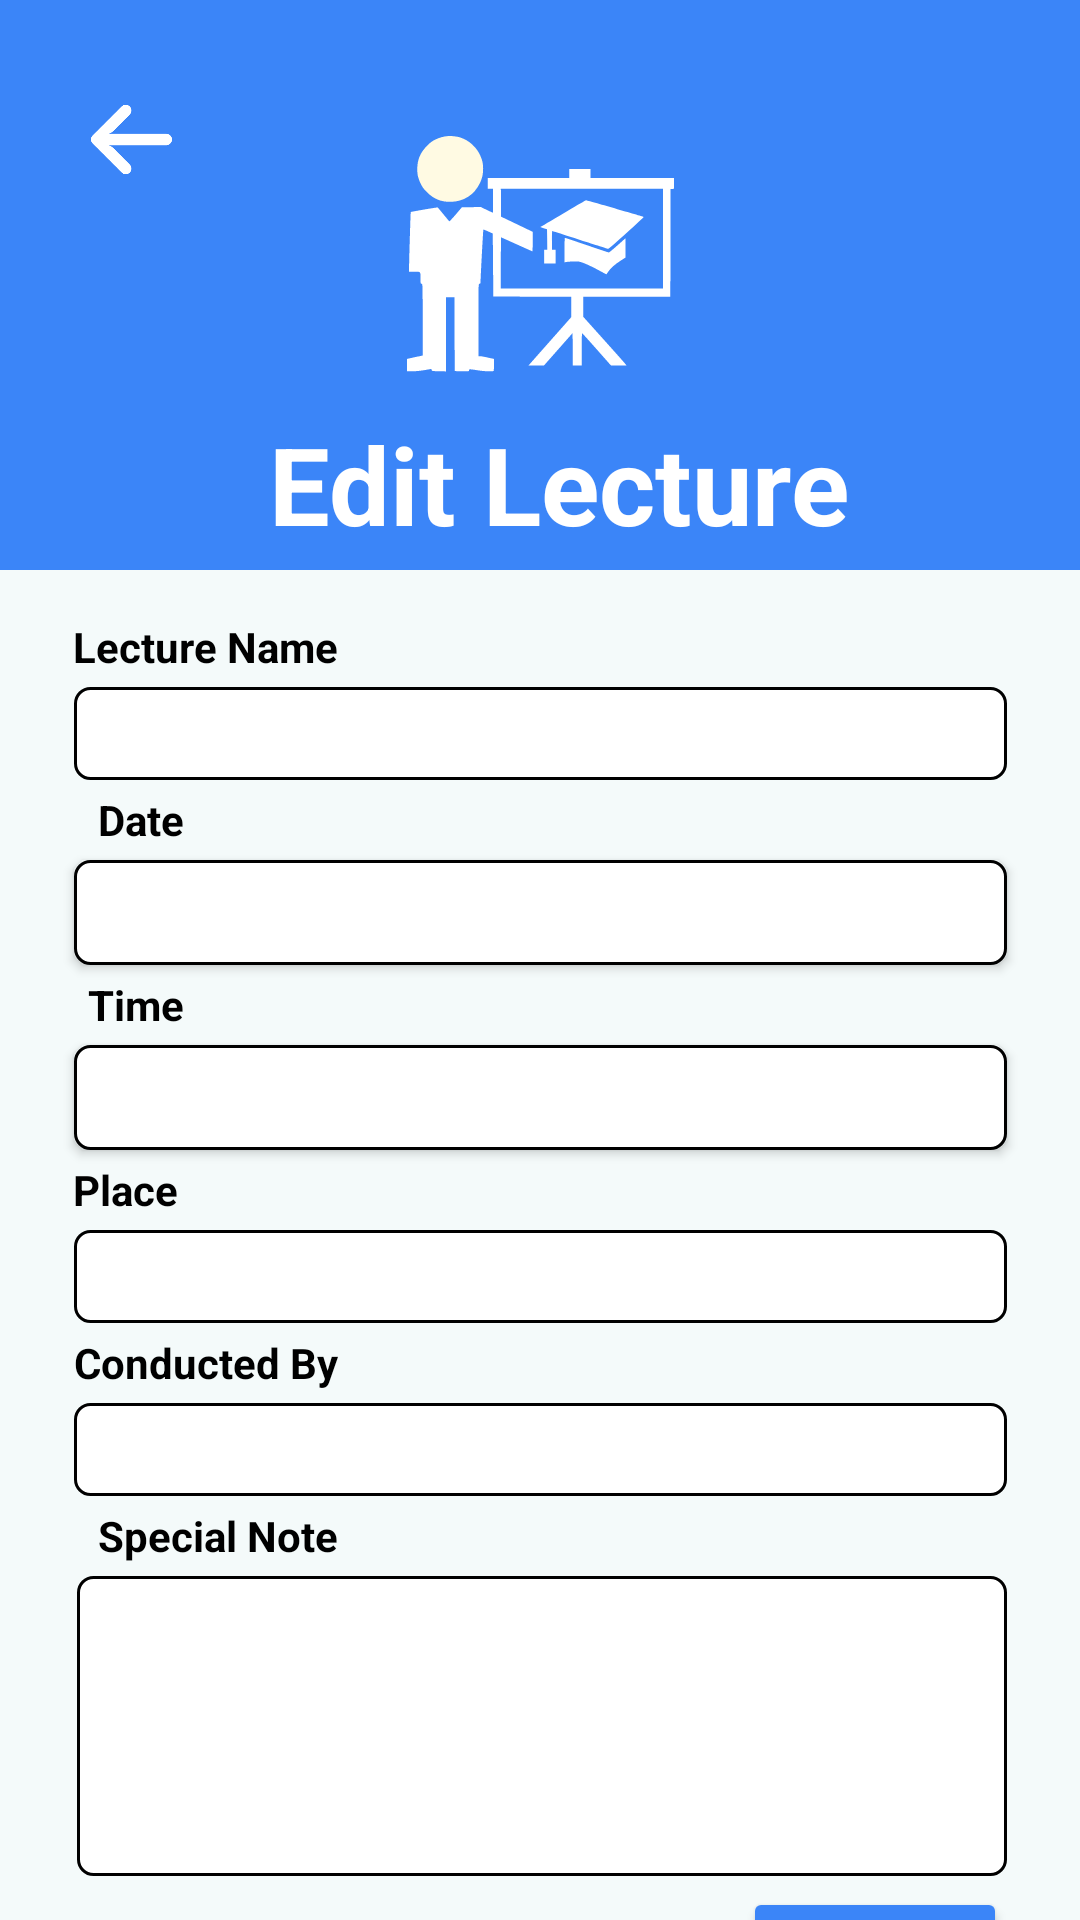

Named icons in this screenshot (1080*1920) and their centers, (x,y):
arrow: (131,139)
lecture headder: (540,254)
